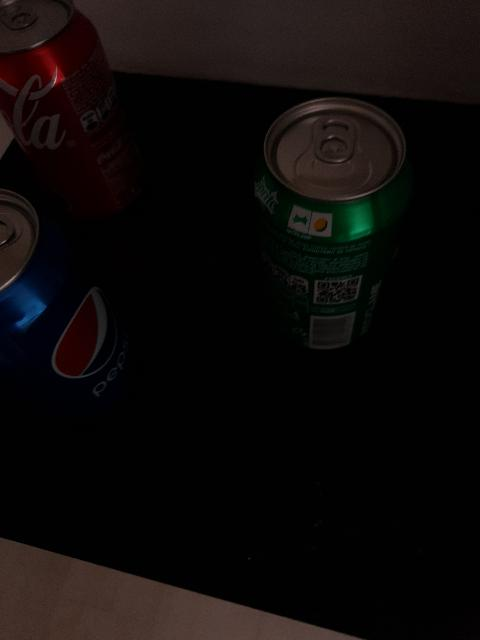coke: (0, 0, 114, 174)
pepsi: (0, 191, 134, 417)
sprite: (246, 96, 410, 370)
